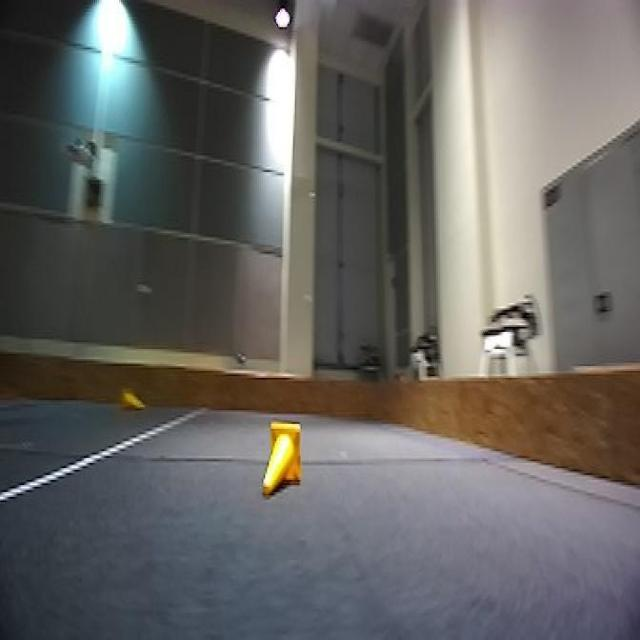frc_cone: (262, 420, 300, 499), (115, 383, 145, 415)
